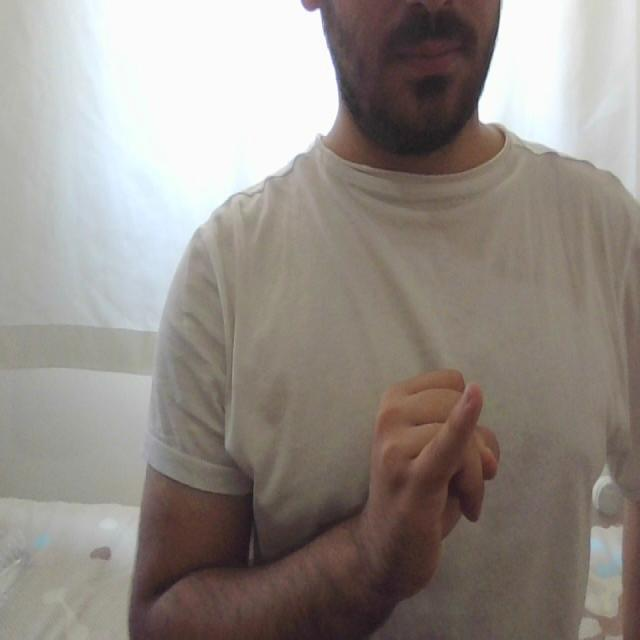kotu: (357, 354, 502, 546)
